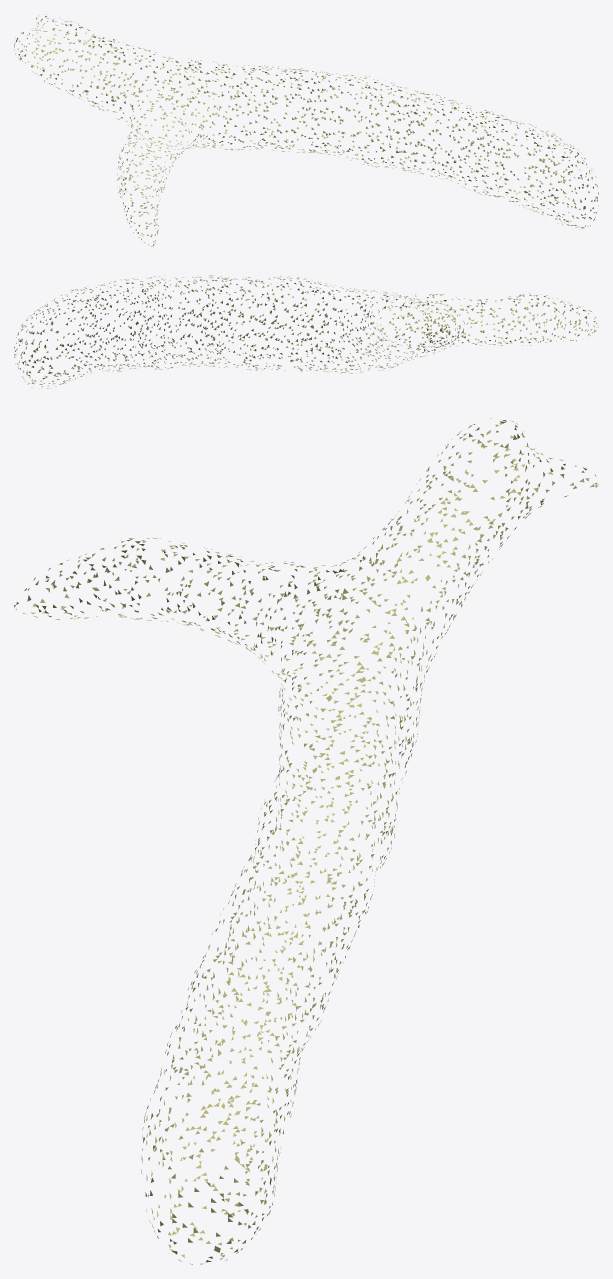
File: morph_009.glb
3 renders of one model, top to bottom at view 1: azimuth 30°, elevation 25°; view 2: azimuth 150°, elevation 25°; view 3: azimuth 270°, elevation 25°, orthographic. The views are drawn at different scales.
Bounding box in the file's own units: 133 × 63.1 × 75.94.
